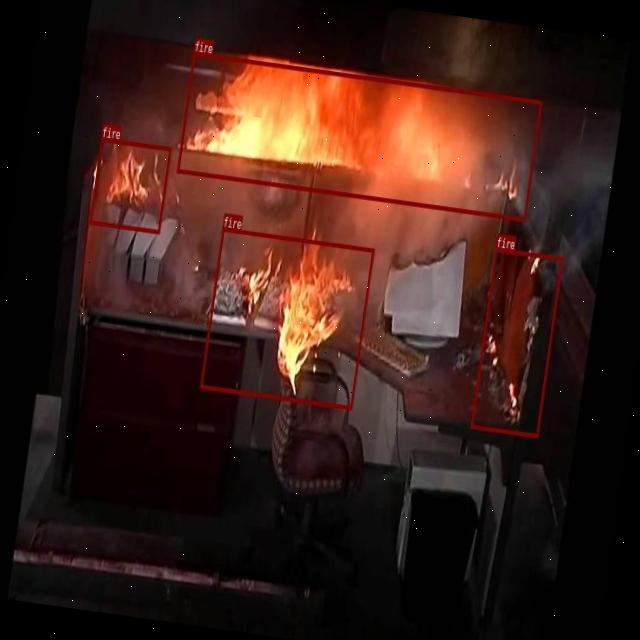fire: (177, 52, 543, 222), (200, 226, 374, 410), (471, 248, 564, 437), (90, 137, 172, 233)
